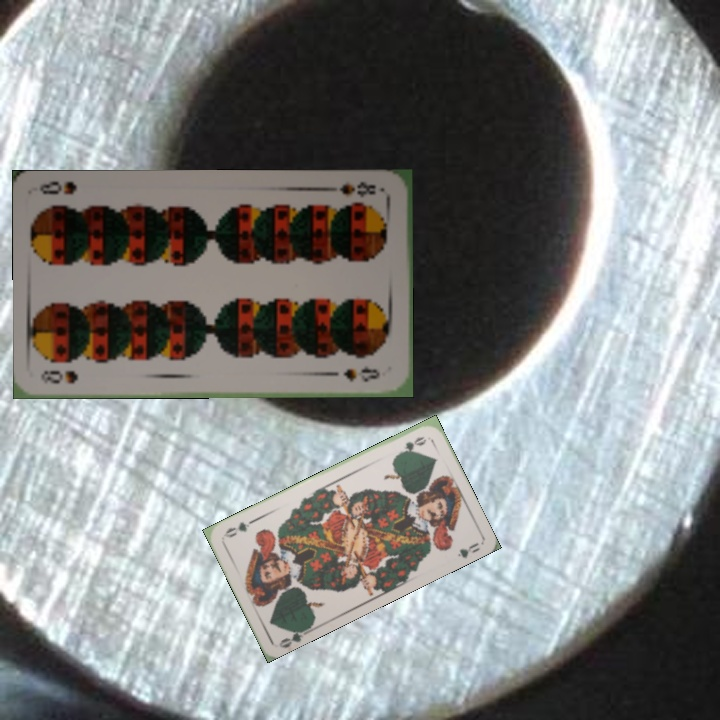GO: (275, 624, 314, 650), (393, 432, 429, 458)
S8: (327, 178, 378, 200), (38, 366, 81, 386)
